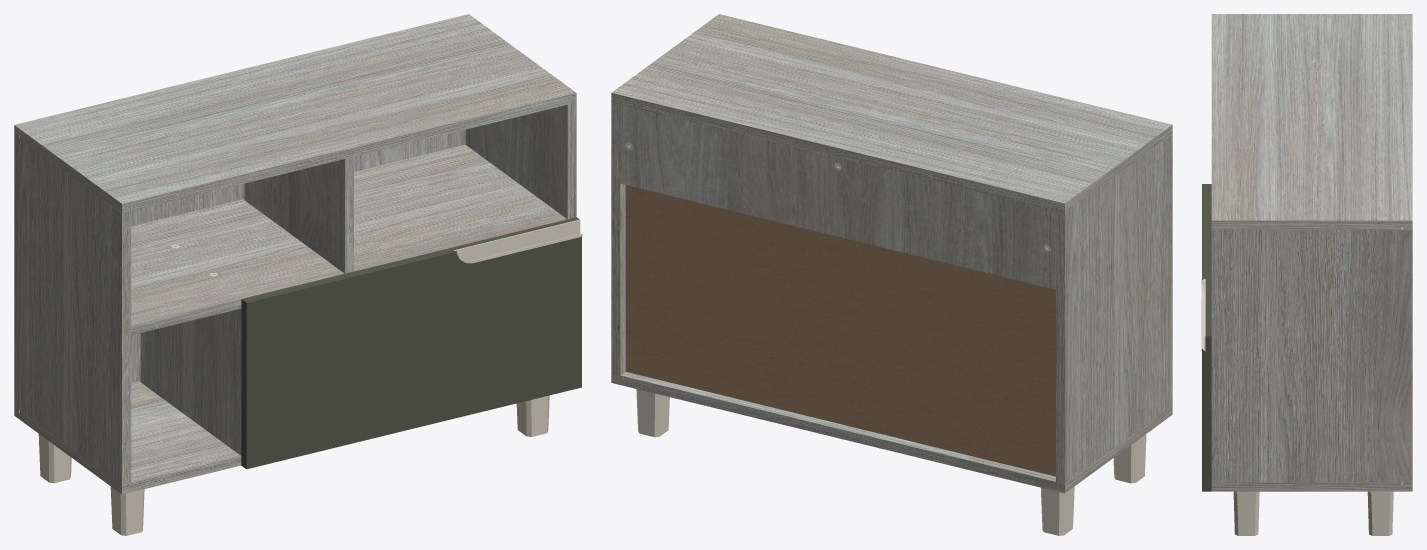
3 views of the same model, side by side, from view 1: azimuth 30°, elevation 25°; view 2: azimuth 150°, elevation 25°; view 3: azimuth 270°, elevation 25° (orthographic). The views are drawn at different scales.
Parts seen in each view (by area): view 1: group_0.301, group_0.044, group_0.069; view 2: group_0.301, group_0.009, group_0.069; view 3: group_0.301, group_0.044, group_0.069.
Boxes of the visible parts, x1,y1,x2,y2 form: group_0.301: (14, 14, 576, 494); group_0.044: (241, 217, 581, 469); group_0.069: (38, 219, 582, 535); group_0.301: (611, 14, 1172, 493); group_0.009: (625, 185, 1055, 476); group_0.069: (636, 389, 1146, 535); group_0.301: (1211, 14, 1412, 491); group_0.044: (1202, 184, 1211, 491); group_0.069: (1201, 279, 1393, 535).
Size of the model in its own units: 0.9012 by 0.6533 by 0.389.
Materials: 6 (2 with a texture image).
